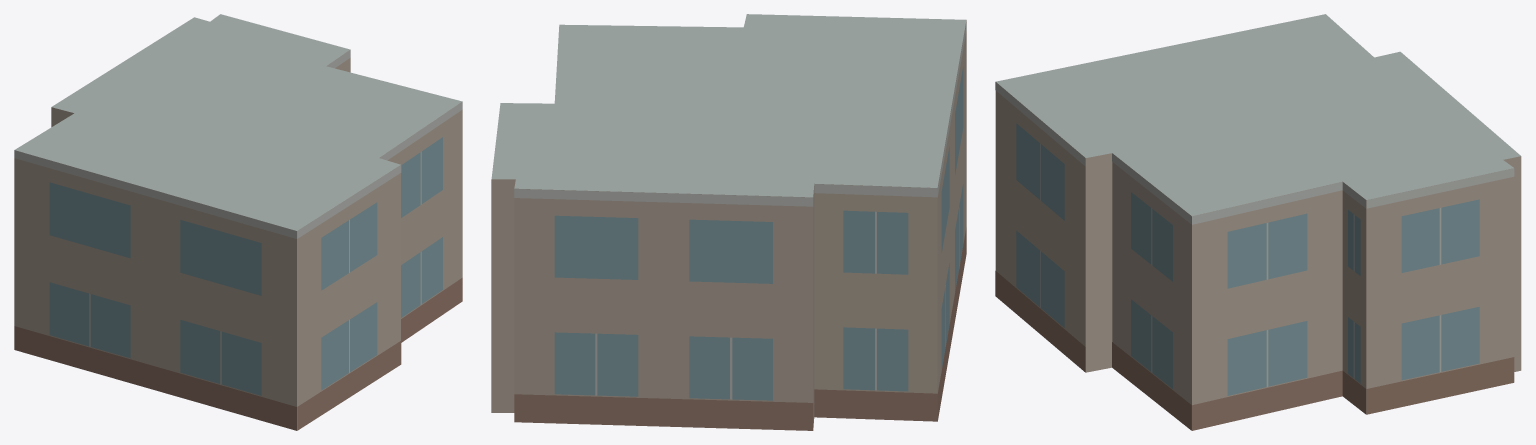
The model's file is survey-upis-32517259.glb.
3 renders of one model, left to right at view 1: azimuth 30°, elevation 25°; view 2: azimuth 150°, elevation 25°; view 3: azimuth 270°, elevation 25°, orthographic. The views are drawn at different scales.
Parts seen in each view (by area): view 1: survey-upis-32517259.tmp; view 2: survey-upis-32517259.tmp; view 3: survey-upis-32517259.tmp.
Boxes of the visible parts, bbox=[...] form: survey-upis-32517259.tmp: bbox=[14, 14, 462, 430]; survey-upis-32517259.tmp: bbox=[491, 14, 966, 430]; survey-upis-32517259.tmp: bbox=[995, 14, 1521, 430].
Bounding box in the file's own units: 12.34 × 6.1 × 13.56.
